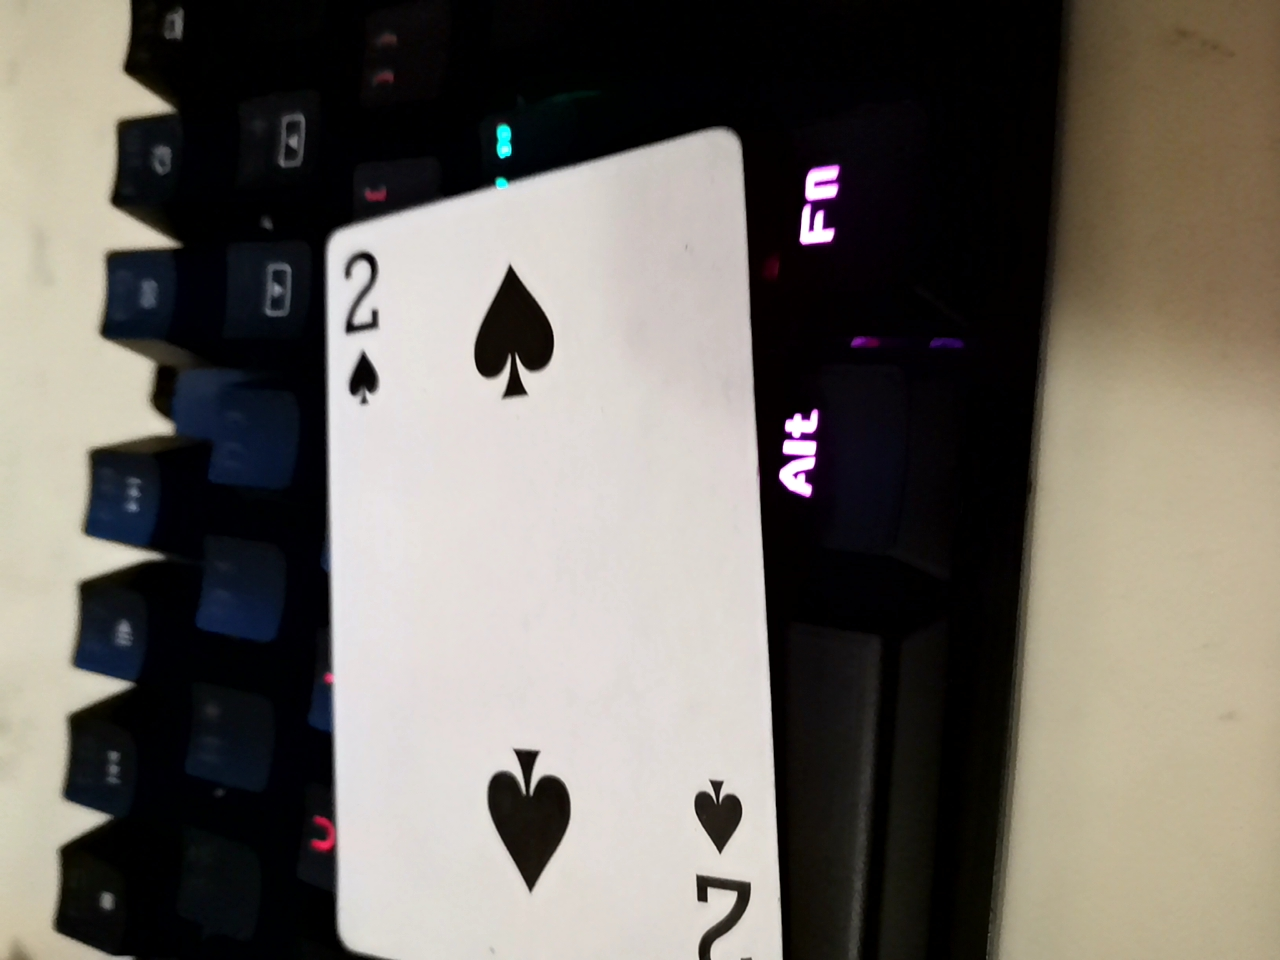ht 2: (310, 141, 776, 939)
